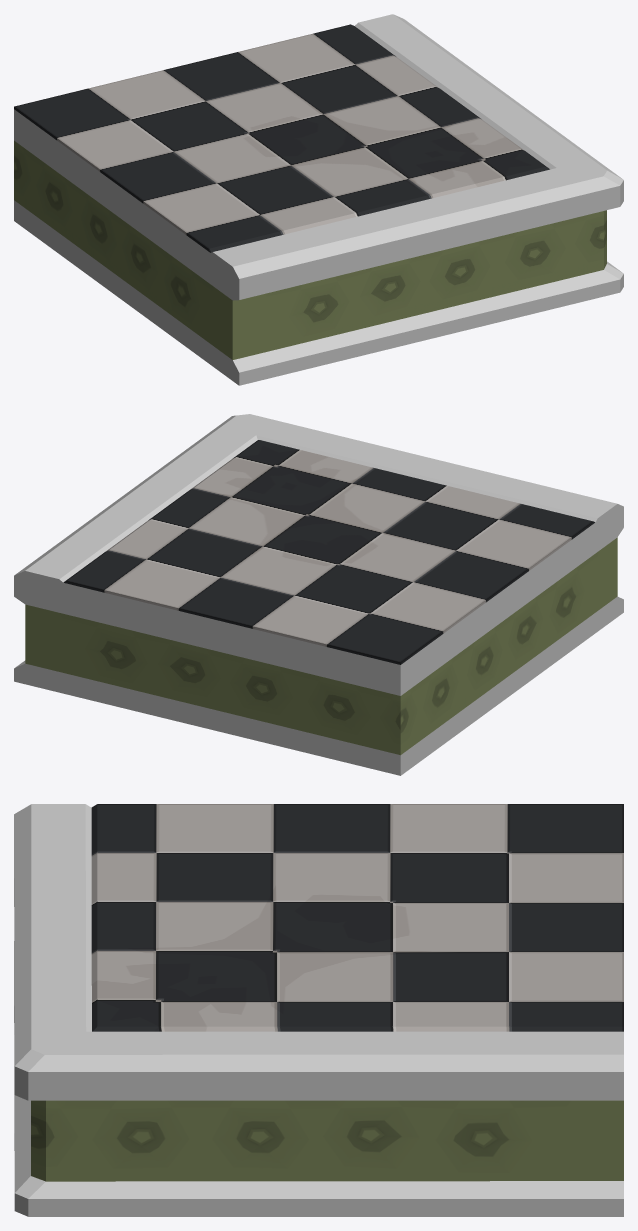
File: SM_Prop_Platform_02_Corner_L_04.fbx
3 renders of one model, top to bottom at view 1: azimuth 30°, elevation 25°; view 2: azimuth 150°, elevation 25°; view 3: azimuth 270°, elevation 25°, orthographic. The views are drawn at different scales.
Visible parts, largest first — view 1: SM_Prop_Platform_02_Corner_L_04; view 2: SM_Prop_Platform_02_Corner_L_04; view 3: SM_Prop_Platform_02_Corner_L_04.
Boxes of the visible parts, x1=… form: SM_Prop_Platform_02_Corner_L_04: x1=14, y1=14, x2=623, y2=385; SM_Prop_Platform_02_Corner_L_04: x1=14, y1=414, x2=623, y2=775; SM_Prop_Platform_02_Corner_L_04: x1=14, y1=804, x2=623, y2=1216.
Size of the model in its own units: 178 by 50 by 178.
